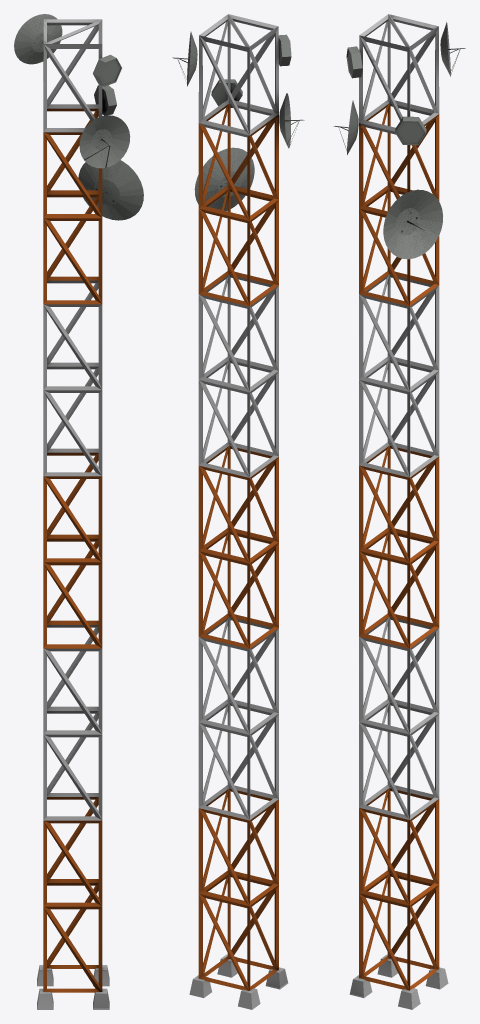
Rendered from antenna.fbx.
3 renders of one model, left to right at view 1: azimuth 90°, elevation 25°; view 2: azimuth 150°, elevation 25°; view 3: azimuth 330°, elevation 25°, orthographic.
Visible parts, largest first — view 1: final; view 2: final; view 3: final.
Boxes of the visible parts, x1,y1,x2,y2 form: final: [14, 14, 143, 1009]; final: [172, 14, 304, 1009]; final: [333, 14, 465, 1009].
Bounding box in the file's own units: 0.6483 × 5.31 × 0.5621.
1 material, 1 textured.
